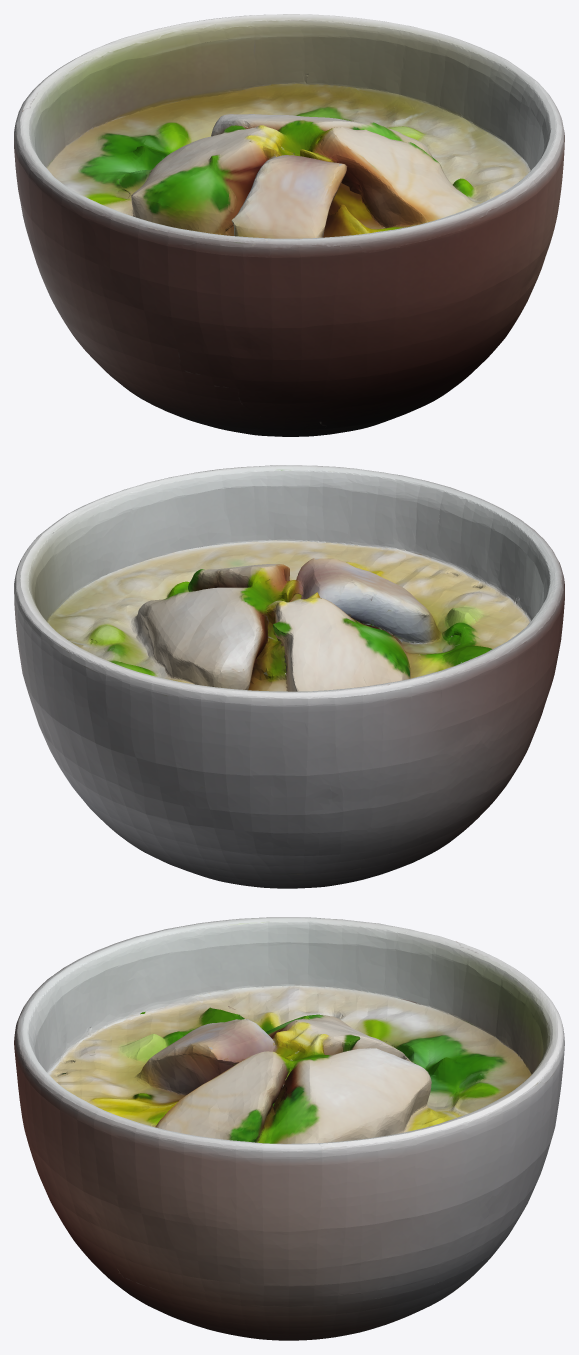
The model's file is slicedfishporridge.fbx.
3 views of the same model, one above another, from view 1: azimuth 30°, elevation 25°; view 2: azimuth 150°, elevation 25°; view 3: azimuth 270°, elevation 25° (orthographic).
Parts seen in each view (by area): view 1: world; view 2: world; view 3: world.
Part boxes in pixels (x1,y1,x2,y2): world: (14, 14, 564, 436); world: (14, 465, 564, 888); world: (14, 917, 564, 1340).
Size of the model in its own units: 99.96 by 55.87 by 100.
